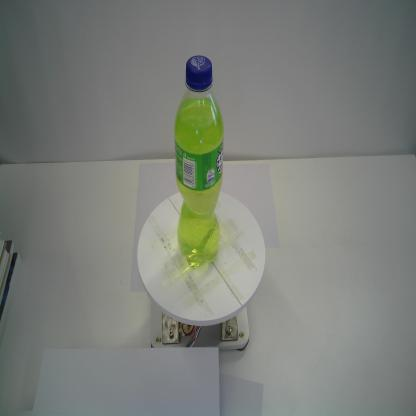Drink: (172, 52, 226, 272)
